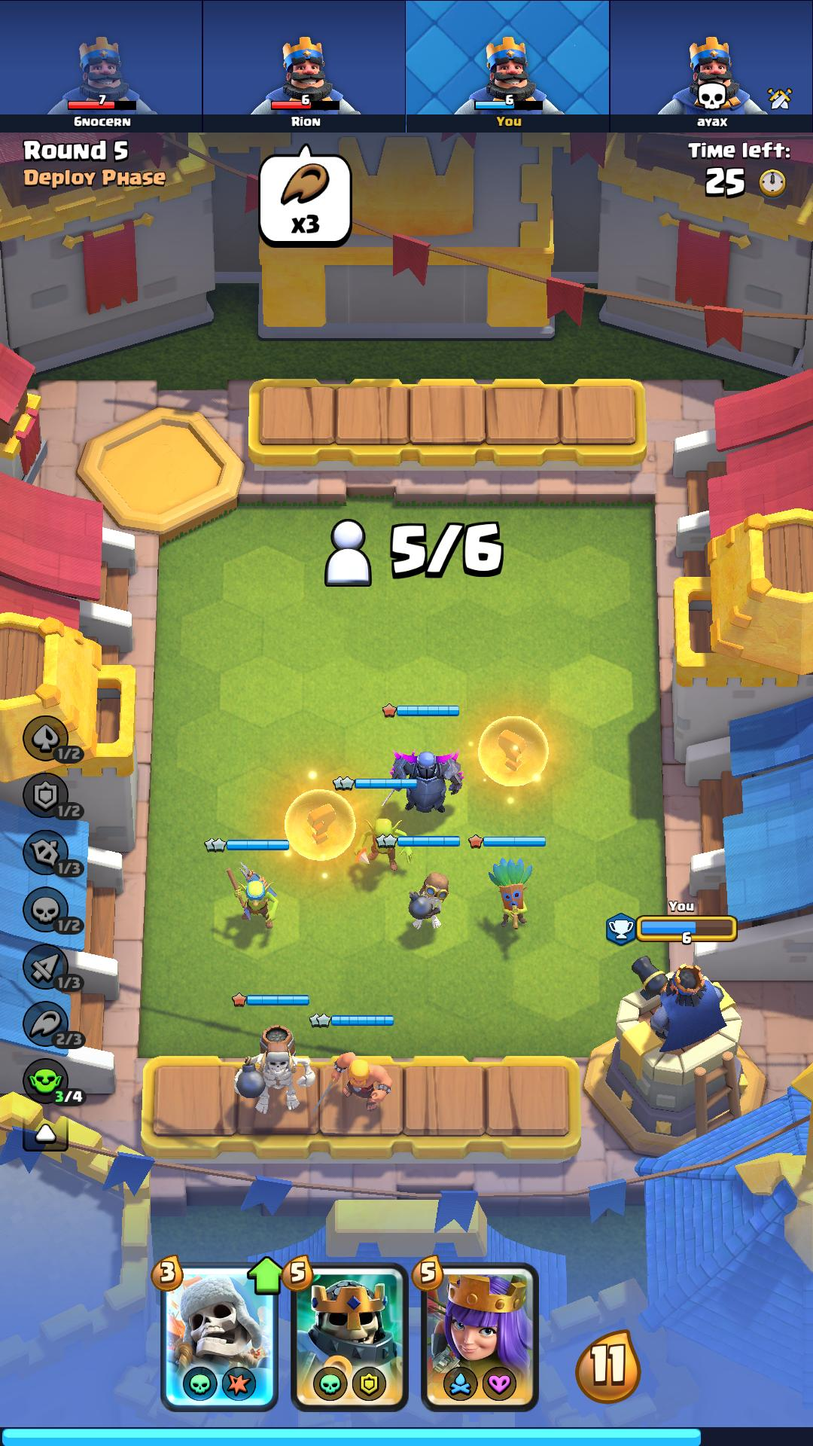barbarian: (321, 1049, 396, 1119)
bomber: (401, 866, 451, 934)
dart: (482, 850, 536, 937)
giant: (237, 1022, 318, 1130)
goblin: (355, 812, 411, 877)
hand-giant: (166, 1267, 272, 1408)
hand-king: (293, 1265, 405, 1407)
hand-queen: (425, 1265, 535, 1409)
orb: (277, 786, 358, 866), (475, 710, 554, 792)
pekka: (384, 745, 465, 816)
spear: (218, 859, 284, 931)
upgrade: (244, 1256, 286, 1296)
